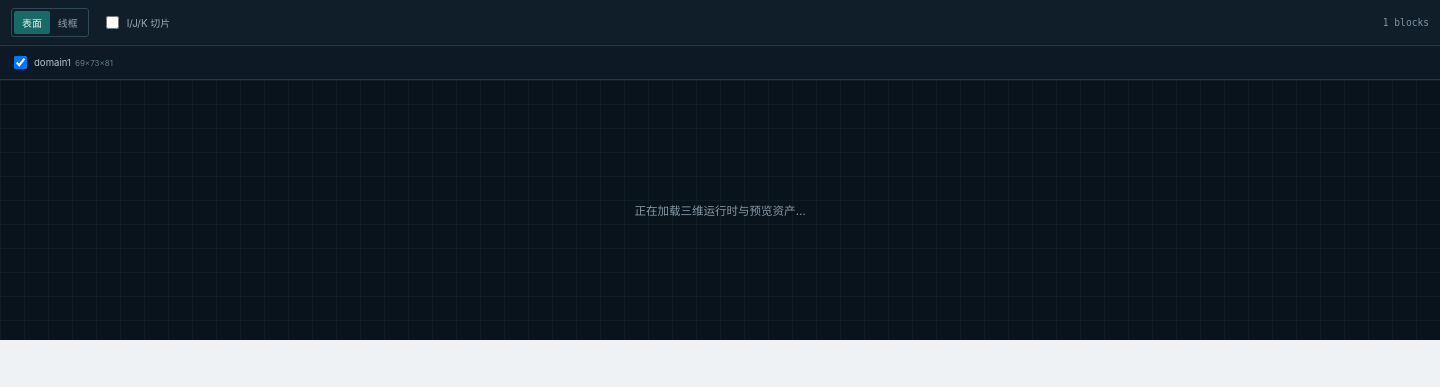
Test case: 为 I/J/K 切片的网格块和轴向下拉框提供可访问名称
Click the checkbox labelled "I/J/K 切片" at (112, 22), box [106, 16, 119, 29]
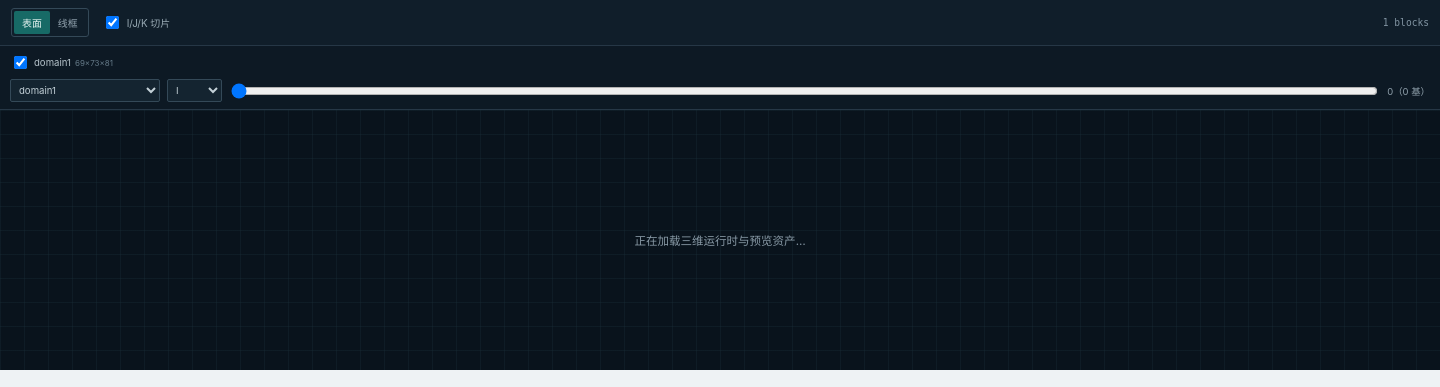
Expected: the dropdown named "切片网格块" is shown, [10, 79, 160, 102]
Expected: the dropdown named "切片轴向" is shown, [167, 79, 222, 102]
